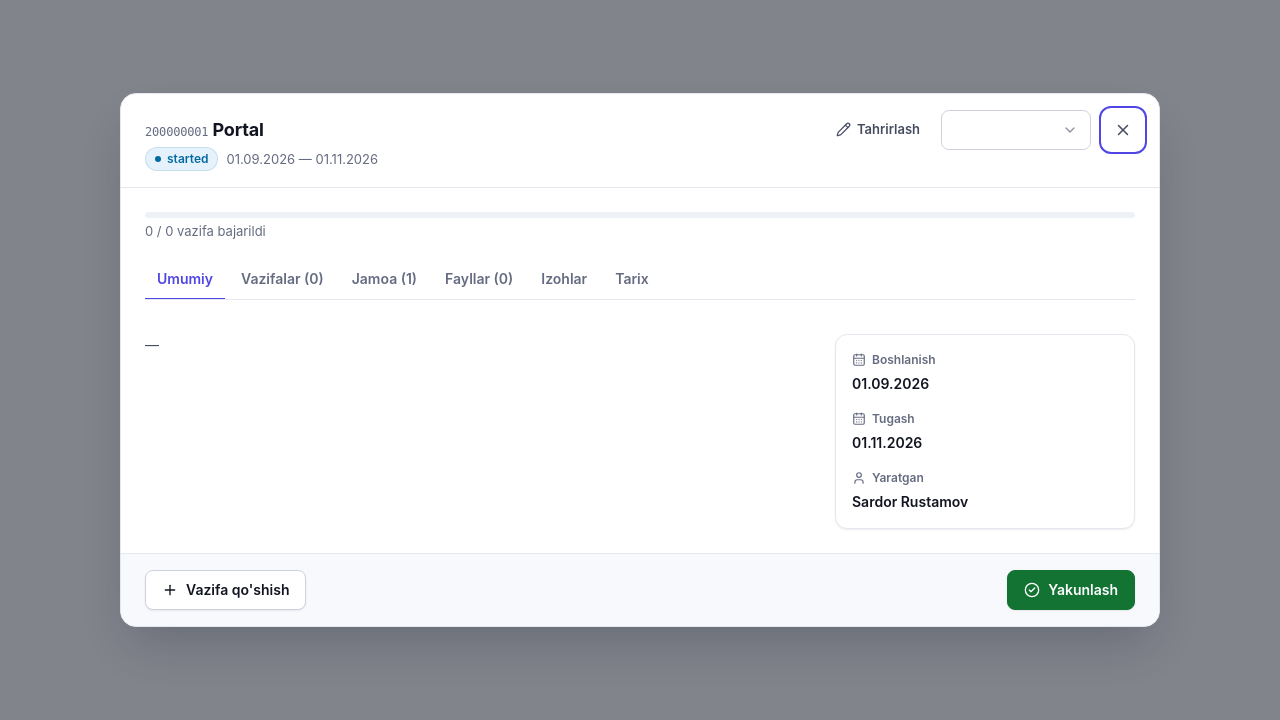
Test: ProjectModal — tarix › keyingi tarix sahifasini ko'rsatadi
Click the tab "Tarix".
click(632, 280)  # box [603,260,661,300]
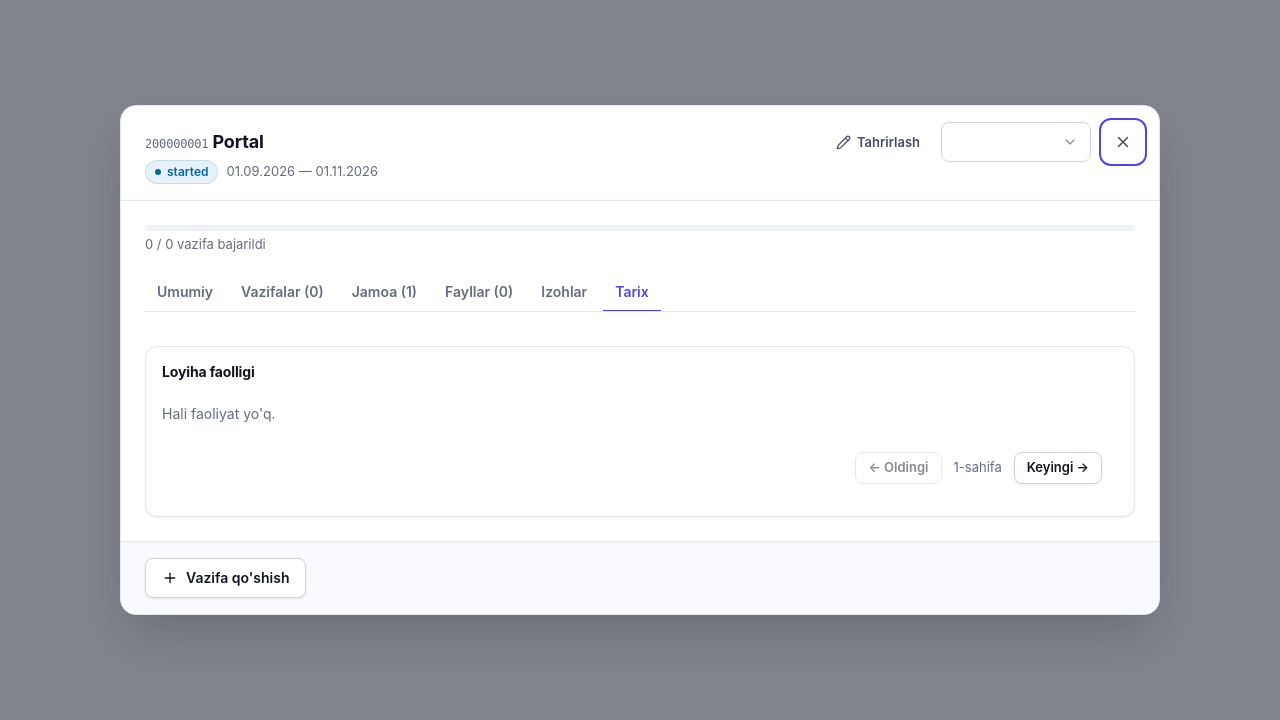
Click the button "Keyingi →".
click(1058, 468)  # box [1014,452,1102,484]
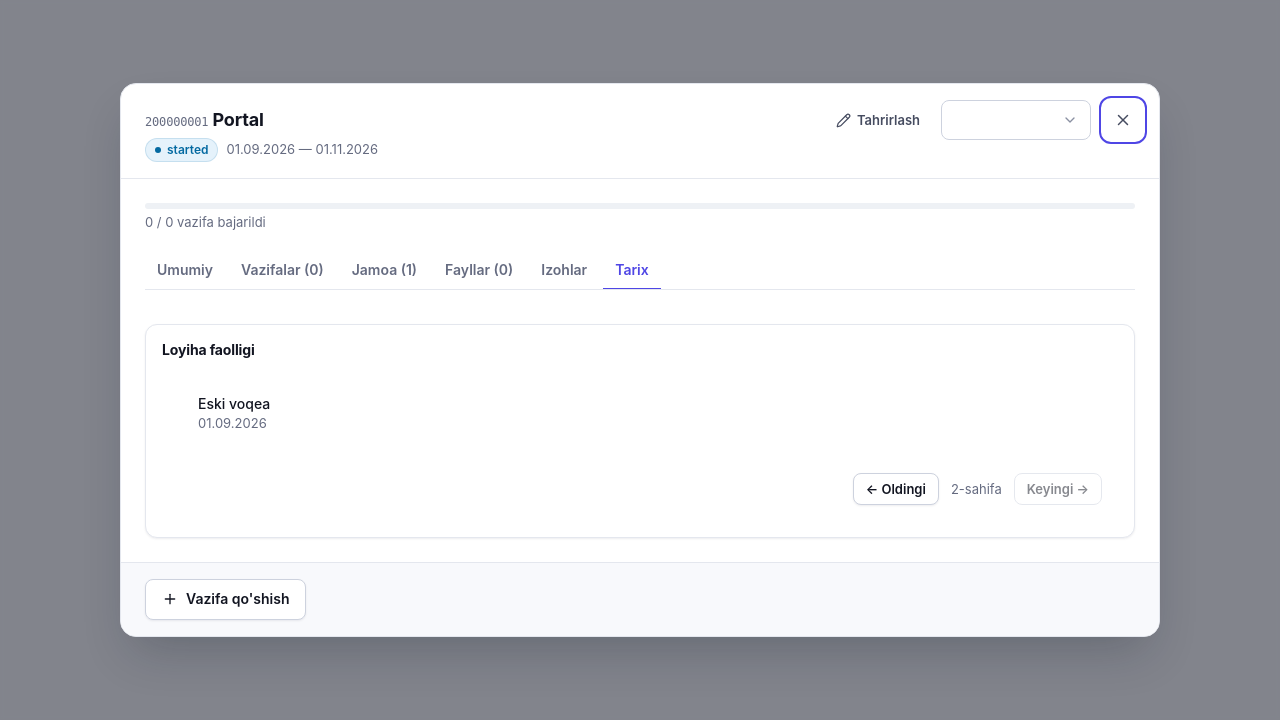
Expected: the text "Eski voqea" is shown, [198,395,270,412]
